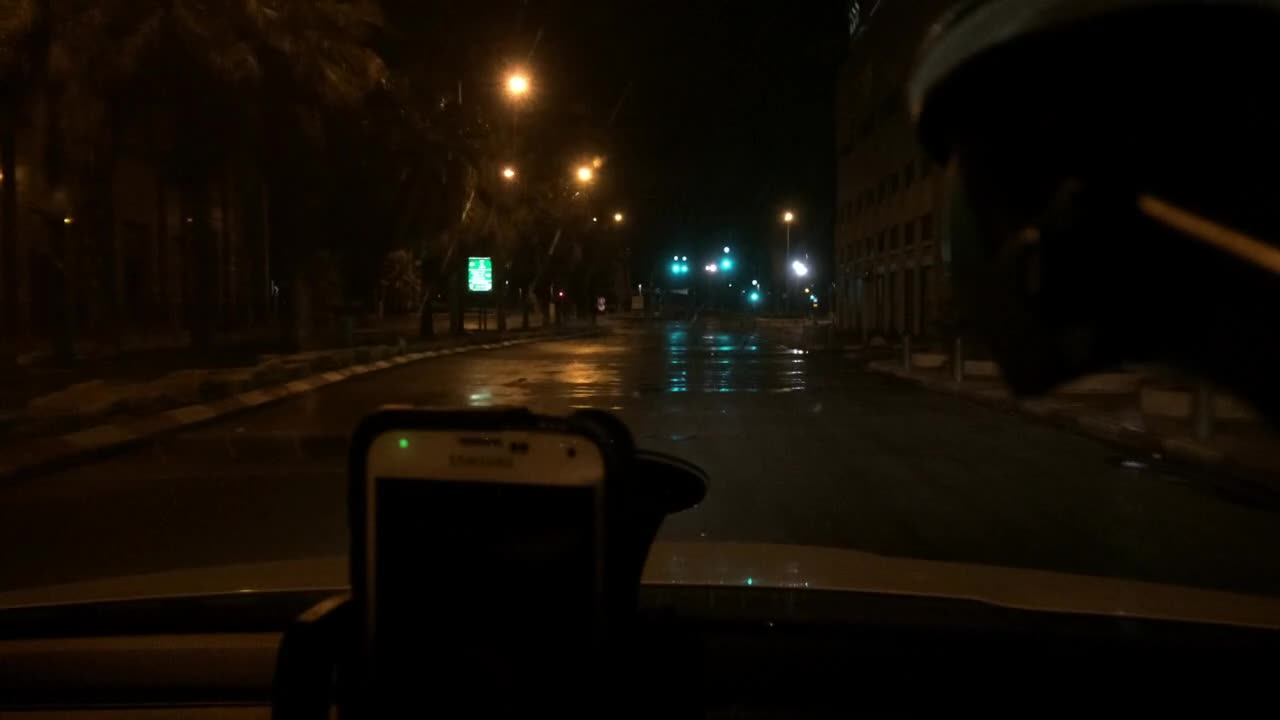traffic light: (671, 264, 688, 273), (721, 257, 728, 269), (751, 291, 757, 301)
traffic sign: (469, 258, 490, 289)
